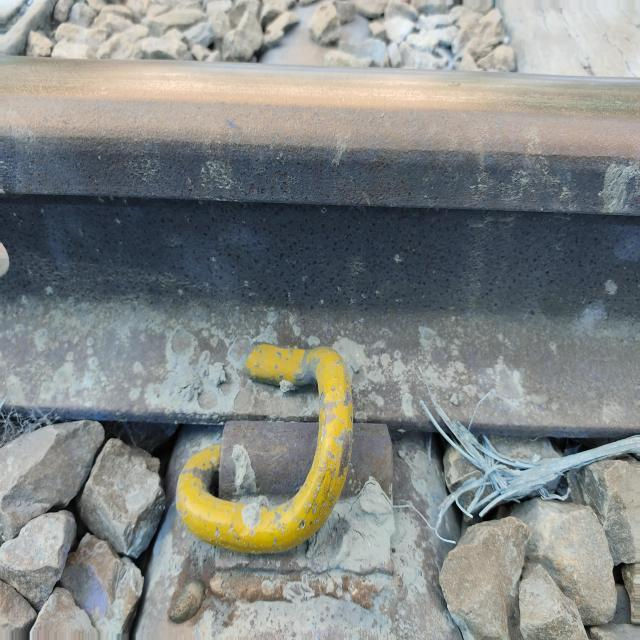Good Fasteners: (148, 298, 415, 622)
